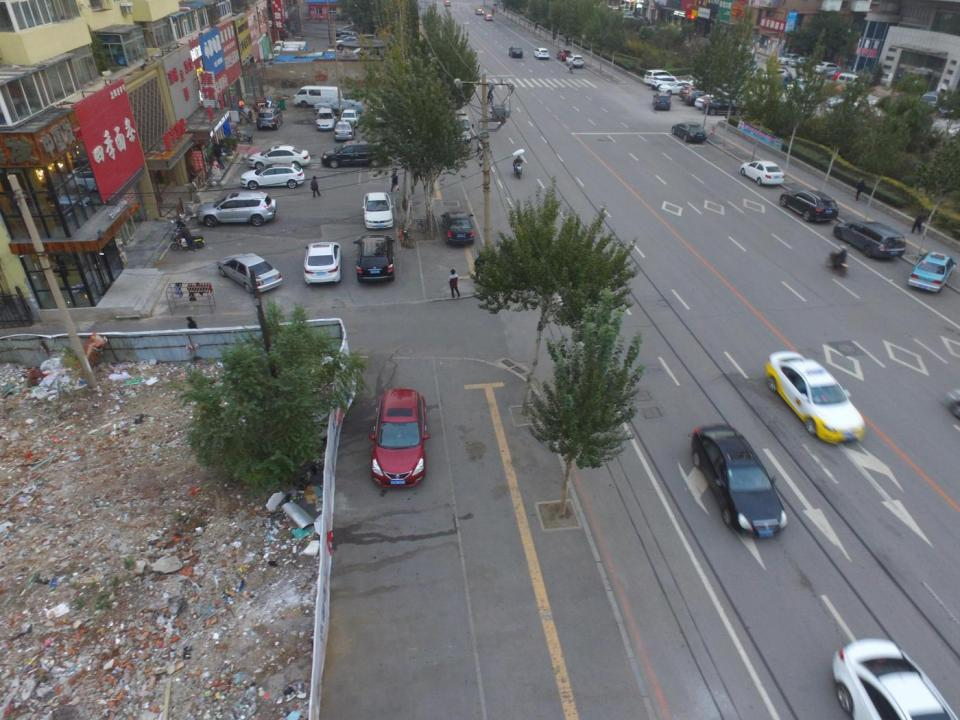car: (686, 422, 791, 540), (830, 636, 958, 718), (762, 349, 866, 445), (371, 388, 430, 492), (834, 218, 908, 260), (216, 253, 282, 294), (198, 192, 277, 224), (780, 184, 840, 223), (908, 250, 956, 294), (354, 232, 394, 282), (303, 242, 341, 288), (248, 144, 312, 169), (242, 168, 306, 190), (440, 211, 477, 248), (362, 192, 394, 231), (644, 68, 696, 92), (741, 161, 785, 187), (824, 90, 866, 114), (685, 87, 732, 108), (695, 92, 734, 114), (657, 81, 714, 96), (671, 121, 706, 145), (682, 82, 726, 100), (315, 99, 364, 114), (753, 68, 792, 86), (705, 100, 745, 116), (257, 108, 283, 131), (786, 76, 812, 97), (340, 107, 364, 128), (839, 73, 865, 92), (314, 108, 336, 130), (335, 123, 357, 144), (810, 60, 840, 75), (938, 103, 960, 121), (653, 94, 673, 112), (775, 52, 800, 66), (788, 55, 813, 66), (508, 46, 524, 60), (534, 48, 548, 62), (826, 70, 854, 77), (566, 55, 583, 66), (558, 49, 570, 60), (484, 13, 494, 23), (444, 1, 452, 8), (476, 9, 484, 14)
van: (319, 142, 393, 165), (294, 86, 344, 108), (449, 112, 473, 142), (921, 91, 945, 113), (272, 46, 304, 59), (273, 41, 310, 52)
